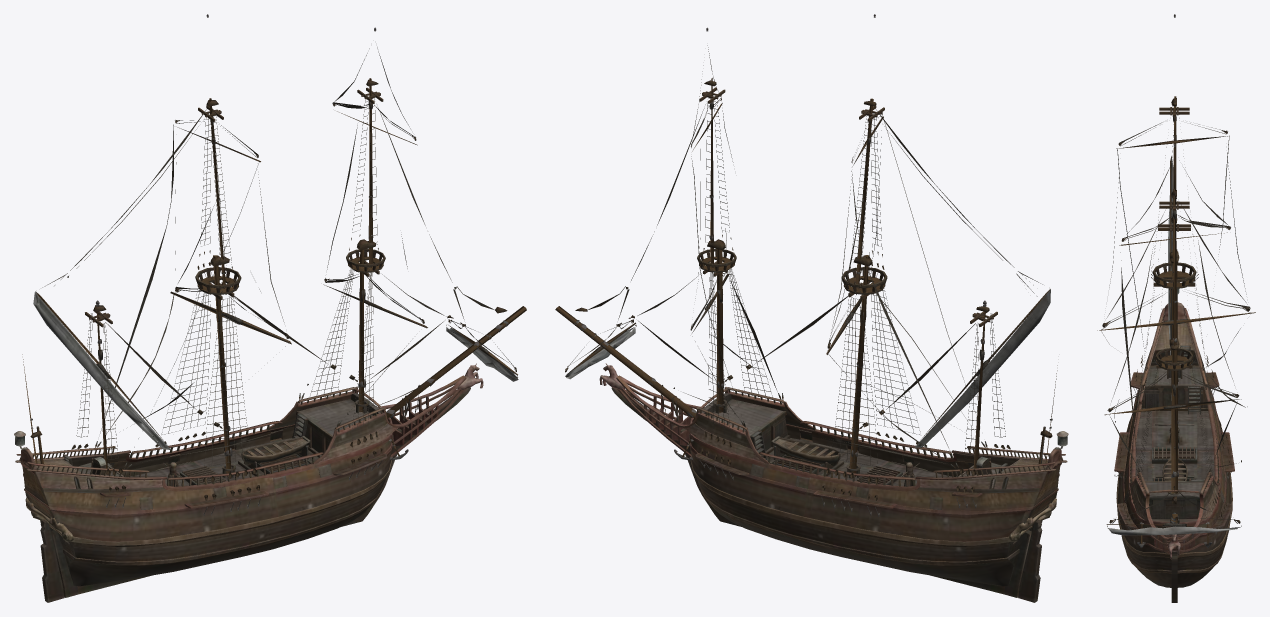
File: ship.glb
3 views of the same model, side by side, from view 1: azimuth 30°, elevation 25°; view 2: azimuth 150°, elevation 25°; view 3: azimuth 270°, elevation 25° (orthographic). The views are drawn at different scales.
Parts seen in each view (by area): view 1: dutch_ship_medium_hull, dutch_ship_medium_rigging; view 2: dutch_ship_medium_hull, dutch_ship_medium_rigging; view 3: dutch_ship_medium_hull, dutch_ship_medium_rigging.
Part boxes in pixels (x1,y1,x2,y2): dutch_ship_medium_hull: [14, 363, 483, 602]; dutch_ship_medium_rigging: [22, 14, 526, 515]; dutch_ship_medium_hull: [599, 363, 1068, 602]; dutch_ship_medium_rigging: [555, 14, 1057, 516]; dutch_ship_medium_hull: [1114, 282, 1234, 602]; dutch_ship_medium_rigging: [1097, 14, 1255, 547].
Size of the model in its own units: 24.05 by 24.66 by 6.8.
2 materials, 2 textured.
